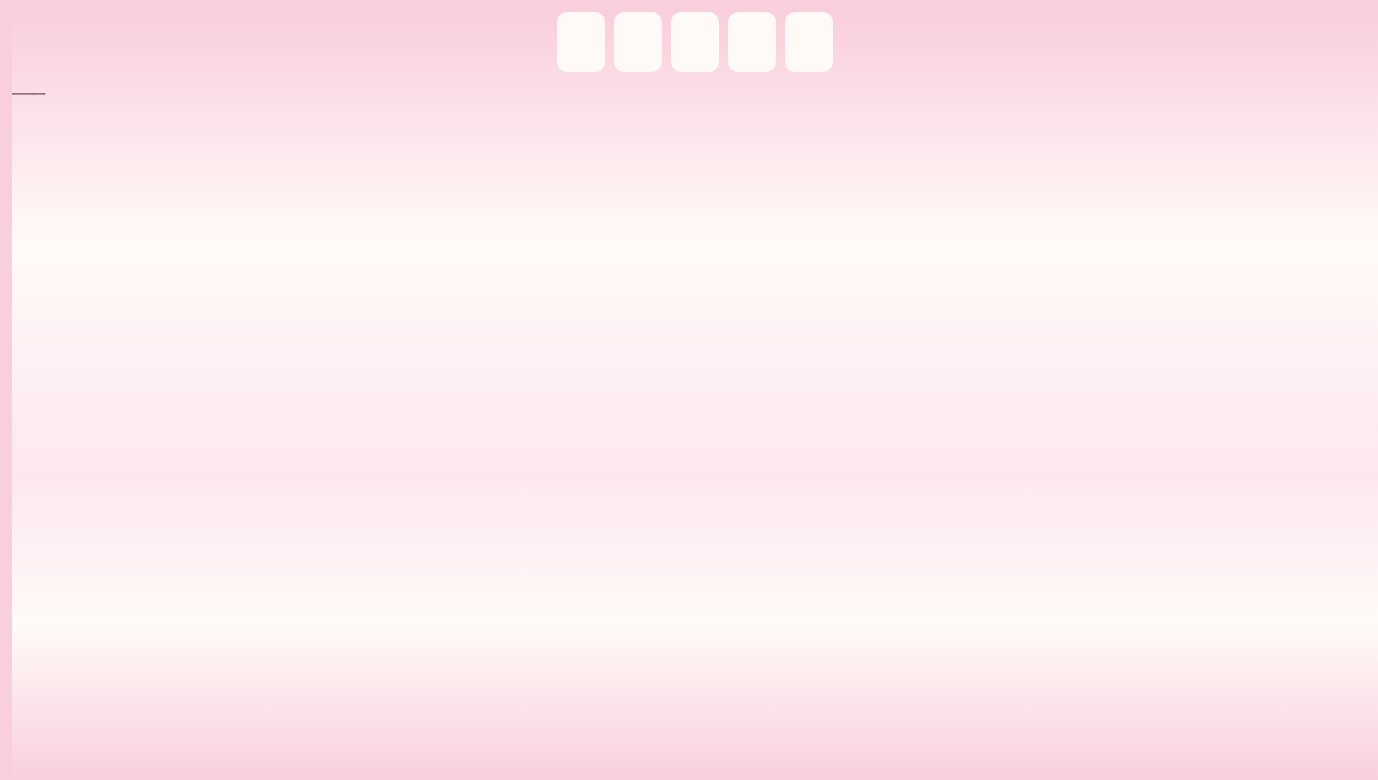
Test: LetterInputs › moves the focus to the next box after each letter, uppercasing it
This screenshot has width=1378, height=780.
Click the field named "Letter 1 of 5".
click(581, 42)  # box [557,12,605,72]
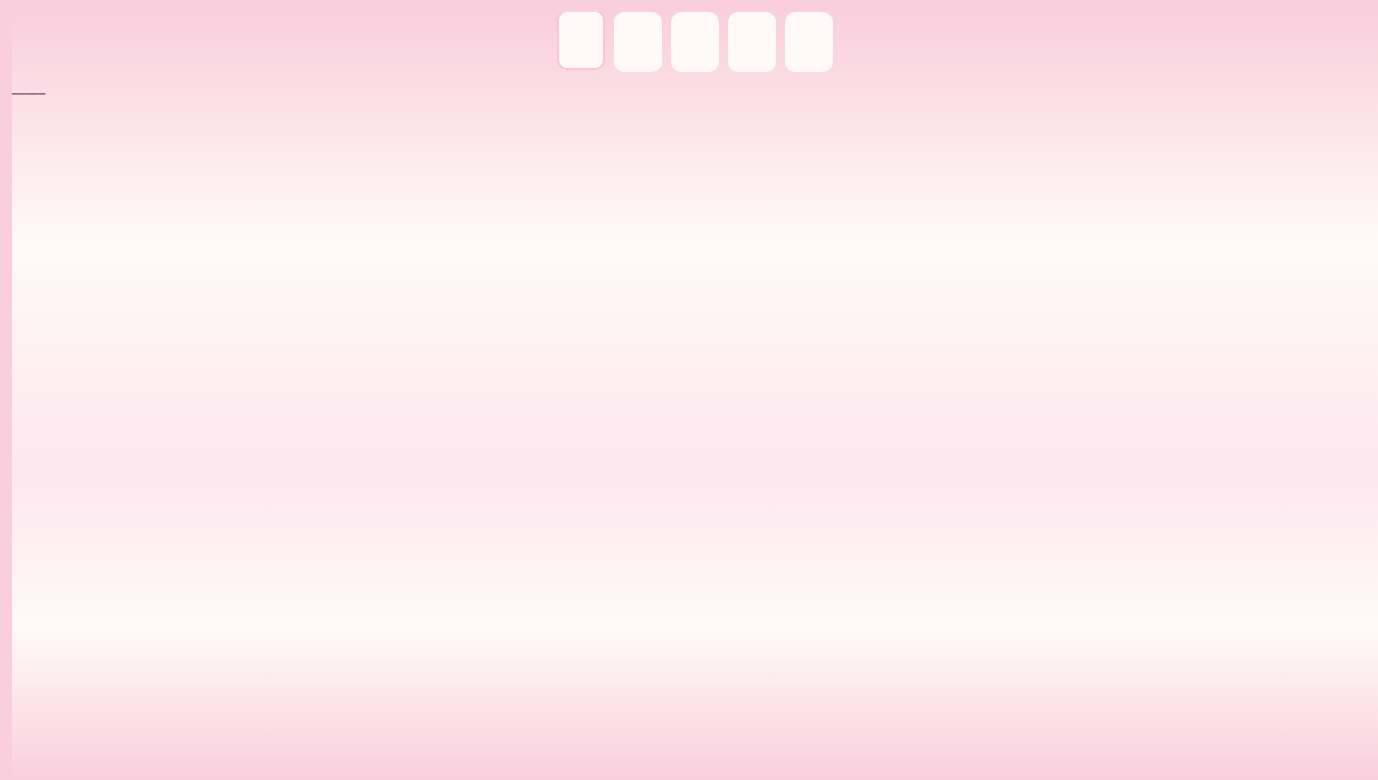
Type keys "apple"
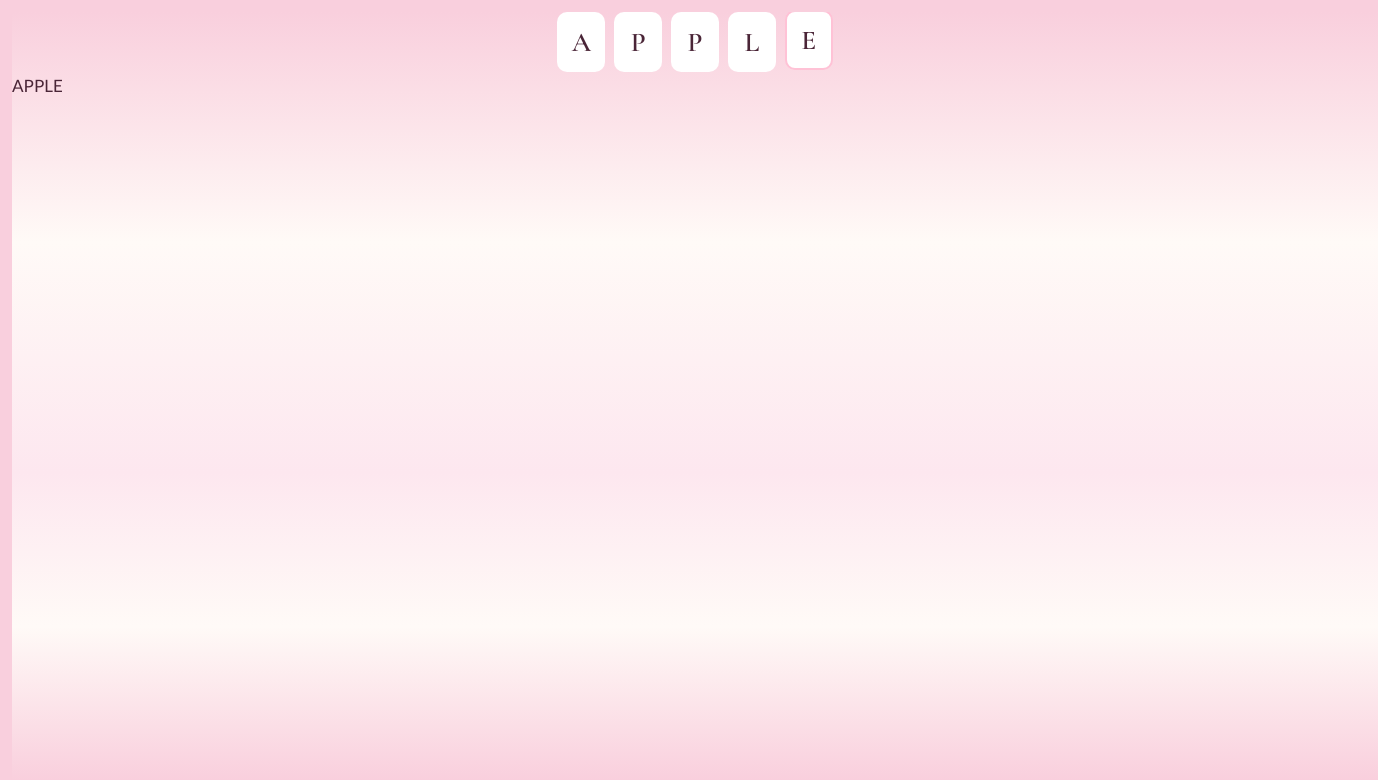
expect the text "APPLE" is shown: met, box [12,75,63,96]
